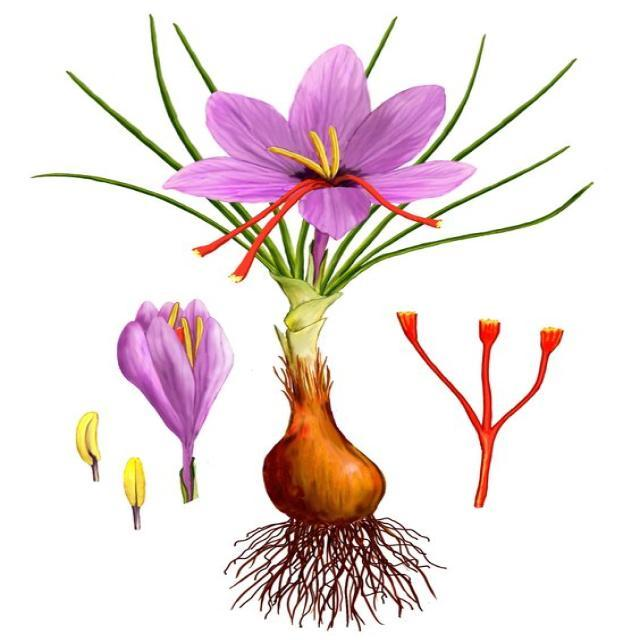Flower: (165, 32, 492, 294)
stigma: (190, 178, 318, 258), (396, 308, 478, 429), (229, 183, 320, 282), (494, 326, 566, 436), (335, 174, 444, 228), (472, 317, 502, 510)
